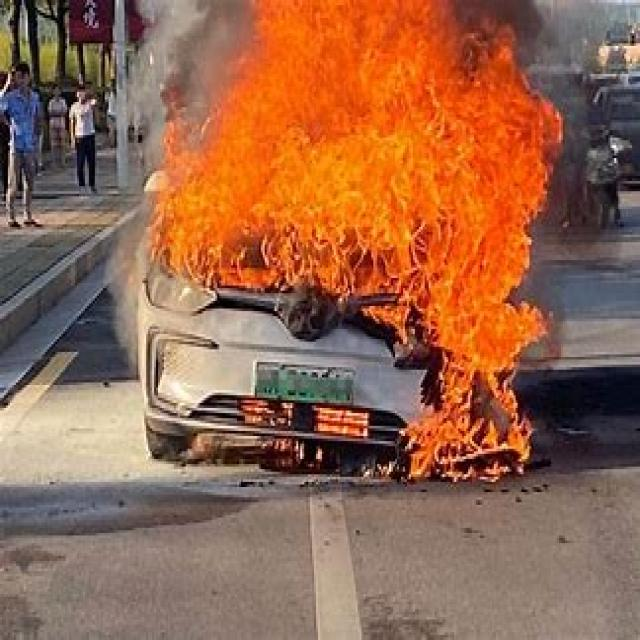fire: (140, 0, 549, 291), (374, 263, 548, 486), (188, 387, 416, 478)
